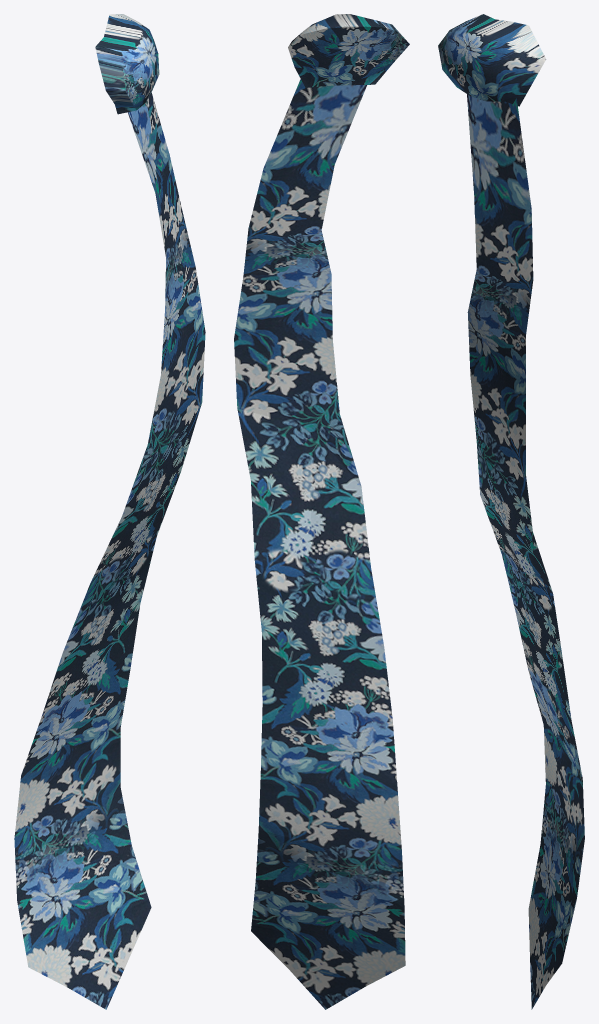
The model's file is Pose-10_Tie-2.fbx.
3 views of the same model, side by side, from view 1: azimuth 30°, elevation 25°; view 2: azimuth 150°, elevation 25°; view 3: azimuth 270°, elevation 25° (orthographic).
Parts seen in each view (by area): view 1: Pose-10_Tie-2; view 2: Pose-10_Tie-2; view 3: Pose-10_Tie-2.
Boxes of the visible parts, x1,y1,x2,y2 form: Pose-10_Tie-2: [14, 14, 205, 1009]; Pose-10_Tie-2: [234, 14, 409, 1009]; Pose-10_Tie-2: [438, 14, 584, 1009].
Bounding box in the file's own units: 8.83 × 46.43 × 6.27.
